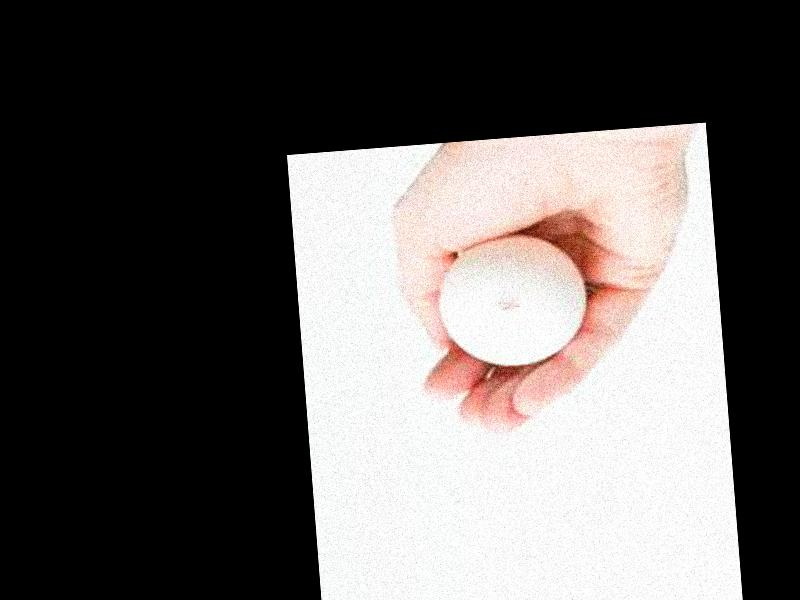Eggs: (439, 232, 588, 370)
